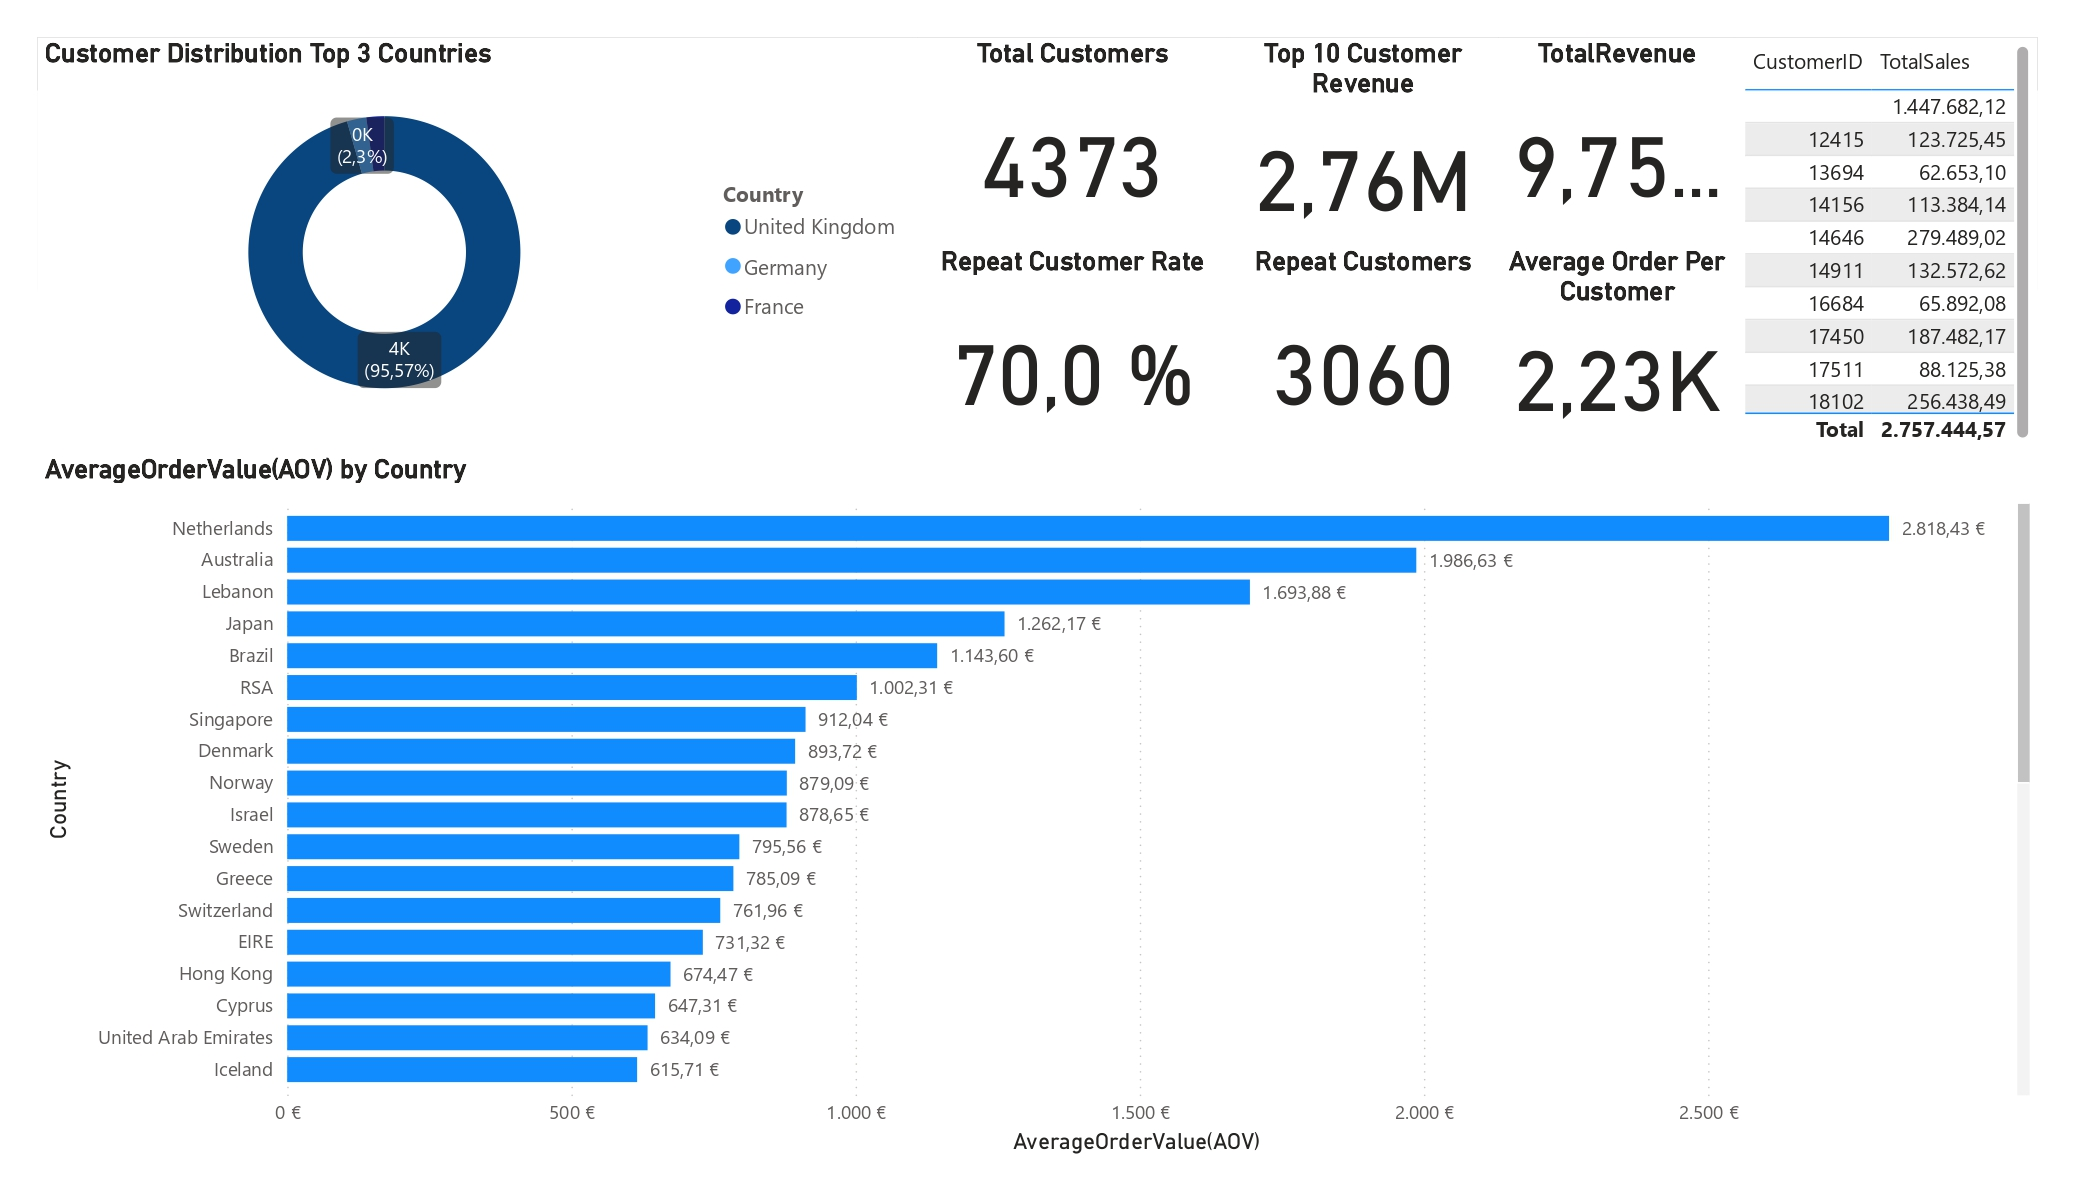

The dashboard page shown, as its layout file describes it:
{"tool":"powerbi","page":{"name":"CustomerInsights","canvas":[1280,720],"ordinal":2},"visuals":[{"type":"donutChart","title":"Customer Distribution Top 3 Countries","fields":{"Y":["Online Retail.CustomerCount"],"Category":["Online Retail.Country"]},"box":[0,0,562.5,255.6],"z":0},{"type":"tableEx","fields":{"Values":["Online Retail.CustomerID","Online Retail.TotalSales"]},"box":[1086.8,0,193.5,266.2],"z":1000},{"type":"barChart","fields":{"Category":["Online Retail.Country"],"Y":["Online Retail.AverageOrderValue(AOV)"]},"box":[0,266,1280,454],"z":2000},{"type":"card","title":"Total Customers","fields":{"Values":["Online Retail.CustomerCount"]},"box":[562.5,0,199.3,133.3],"z":3000},{"type":"card","title":"Repeat Customer Rate","fields":{"Values":["Online Retail.Repeat Customer Rate"]},"box":[562.5,133.3,199.3,133.3],"z":4000},{"type":"card","title":"Repeat Customers","fields":{"Values":["Online Retail.RepeatCustomersCount"]},"box":[761.8,133.3,173.6,133.3],"z":5000},{"type":"card","title":"Top 10 Customer Revenue","fields":{"Values":["Online Retail.Top10CustomerSales"]},"box":[761.8,0,173.6,133.3],"z":6000},{"type":"card","title":"TotalRevenue","fields":{"Values":["Online Retail.TotalSales"]},"box":[935.5,0,151.6,133.3],"z":7000},{"type":"card","title":"Average Order Per Customer","fields":{"Values":["Online Retail.ARPC"]},"box":[935.5,133.3,151.6,122.3],"z":8000}]}

Visuals, with their boxes on the page's 1280x720 design canvas (x1, y1, x2, y2). These are canvas units, not pixel positions in the 2075x1200 screenshot, which may show the page scaled, cropped or inside an application window:
"Customer Distribution Top 3 Countries" donutChart: (x1=0, y1=0, x2=562, y2=256)
tableEx - Online Retail.CustomerID x Online Retail.TotalSales: (x1=1087, y1=0, x2=1280, y2=266)
barChart - Online Retail.Country x Online Retail.AverageOrderValue(AOV): (x1=0, y1=266, x2=1280, y2=720)
"Total Customers" card: (x1=562, y1=0, x2=762, y2=133)
"Repeat Customer Rate" card: (x1=562, y1=133, x2=762, y2=267)
"Repeat Customers" card: (x1=762, y1=133, x2=935, y2=267)
"Top 10 Customer Revenue" card: (x1=762, y1=0, x2=935, y2=133)
"TotalRevenue" card: (x1=936, y1=0, x2=1087, y2=133)
"Average Order Per Customer" card: (x1=936, y1=133, x2=1087, y2=256)
